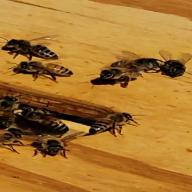Bee: (77, 102, 138, 139), (5, 32, 64, 64), (0, 58, 77, 80), (24, 133, 73, 163)
